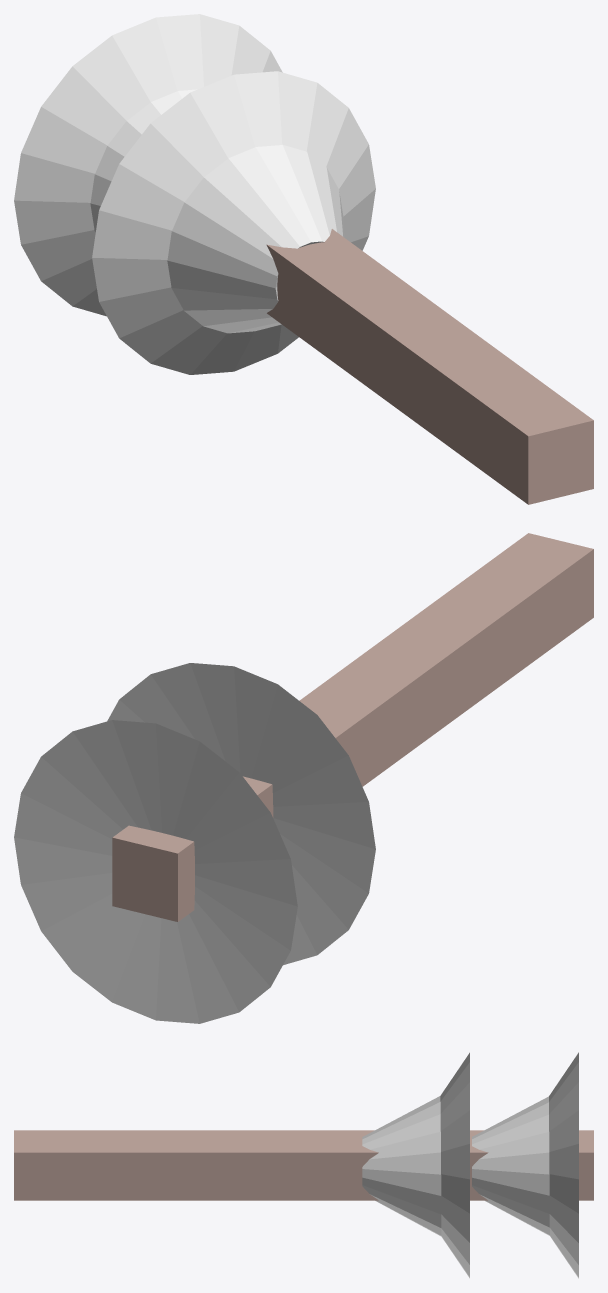
File: InsulatorBase_2.obj
3 renders of one model, top to bottom at view 1: azimuth 30°, elevation 25°; view 2: azimuth 150°, elevation 25°; view 3: azimuth 270°, elevation 25°, orthographic. The views are drawn at different scales.
Size of the model in its own units: 0.5416 by 0.5416 by 1.38.
